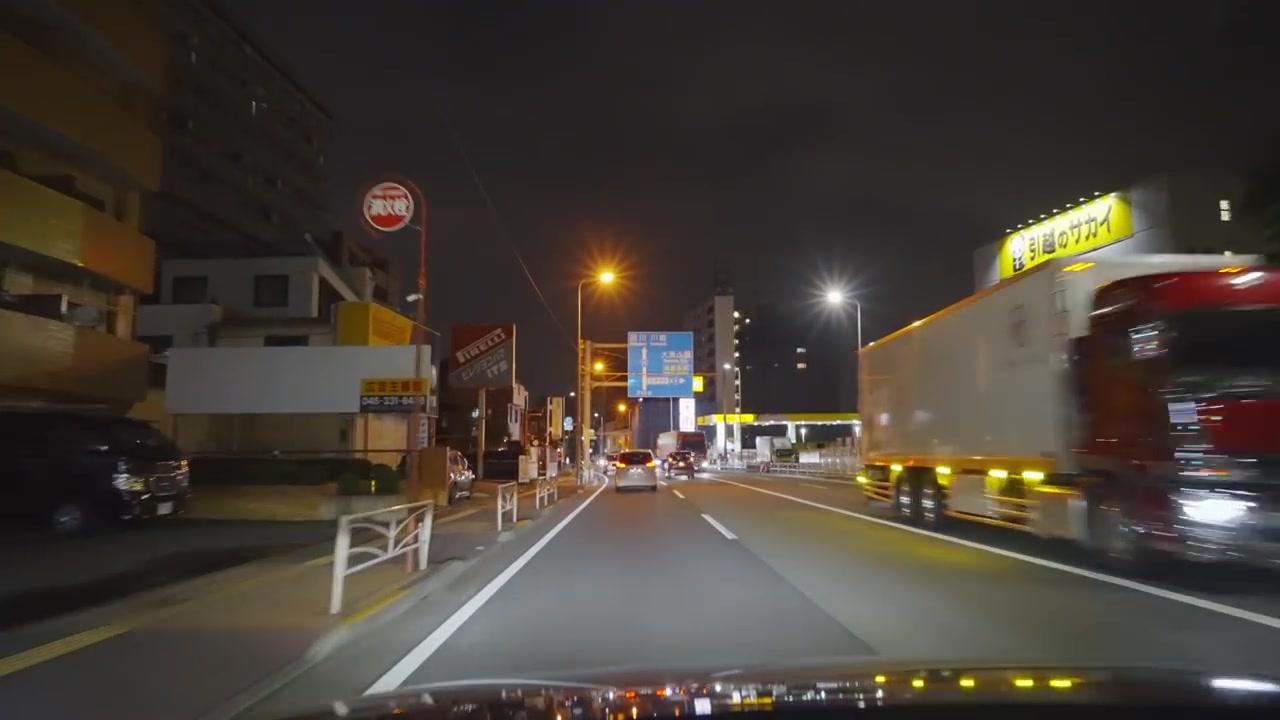car: (0, 406, 192, 534), (612, 449, 657, 492), (445, 450, 475, 503)
truck: (853, 224, 1278, 566), (656, 429, 708, 477)
